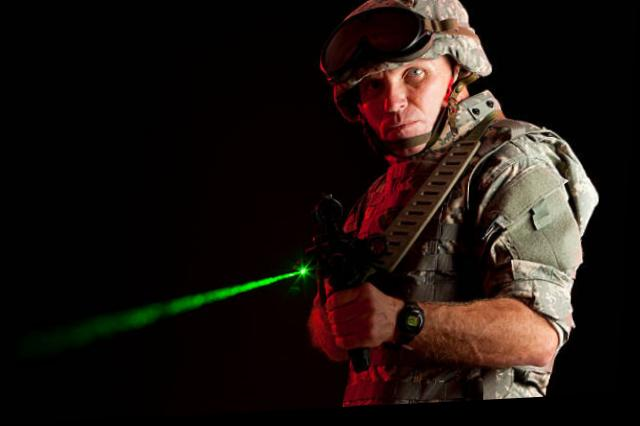other: (292, 0, 592, 411)
